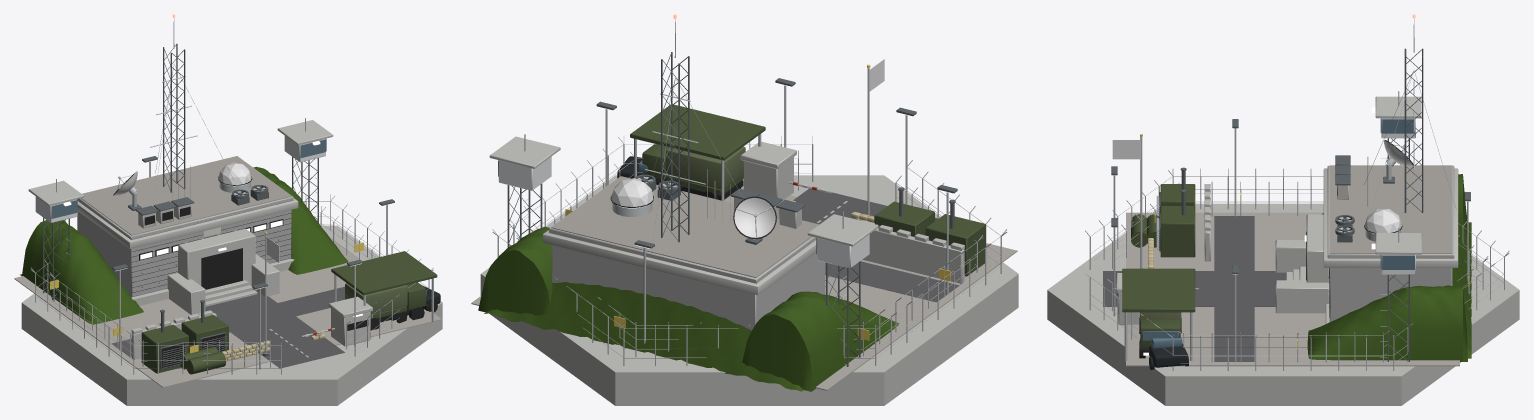
File: commandCenter.glb
3 views of the same model, side by side, from view 1: azimuth 30°, elevation 25°; view 2: azimuth 150°, elevation 25°; view 3: azimuth 270°, elevation 25° (orthographic). The views are drawn at different scales.
Parts seen in each view (by area): view 1: wall_concrete, gravel, turf, metal, asphalt, cladding, steel_dark, dark, paint, glass, sandbag; view 2: wall_concrete, turf, gravel, cladding, metal, paint, steel_dark, asphalt, dark; view 3: wall_concrete, gravel, turf, metal, asphalt, cladding, steel_dark, paint, glass, banner, dark.
Part boxes in pixels (box(x1,y1,x2,y2)): wall_concrete: box(21, 120, 442, 405); gravel: box(14, 156, 441, 387); turf: box(20, 166, 348, 324); metal: box(31, 18, 433, 374); asphalt: box(112, 286, 344, 368); cladding: box(35, 136, 437, 373); steel_dark: box(43, 43, 394, 369); dark: box(113, 171, 437, 368); paint: box(113, 162, 440, 374); glass: box(51, 138, 426, 296); sandbag: box(222, 331, 325, 361); wall_concrete: box(480, 136, 1018, 405); turf: box(478, 227, 899, 391); gravel: box(471, 176, 1017, 390); cladding: box(498, 104, 985, 276); metal: box(492, 19, 1007, 365); paint: box(611, 144, 938, 237); steel_dark: box(507, 52, 957, 366); asphalt: box(793, 188, 959, 302); dark: box(610, 179, 825, 293); wall_concrete: box(1047, 96, 1519, 405); gravel: box(1126, 165, 1459, 366); turf: box(1307, 174, 1471, 361); metal: box(1085, 18, 1509, 370); asphalt: box(1103, 216, 1286, 361); cladding: box(1122, 118, 1415, 312); steel_dark: box(1111, 48, 1470, 361); paint: box(1131, 140, 1412, 367); glass: box(1142, 118, 1414, 348); banner: box(1112, 140, 1140, 159); dark: box(1117, 140, 1413, 369).
Size of the model in its own units: 21.3 by 17.52 by 24.6.
